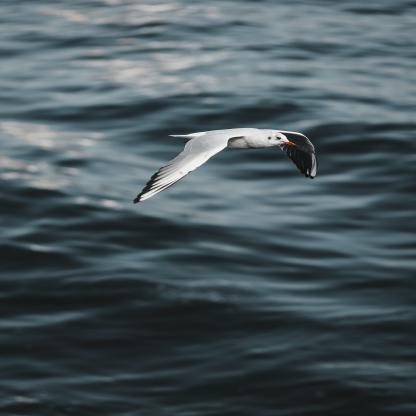bird: (134, 126, 321, 204)
